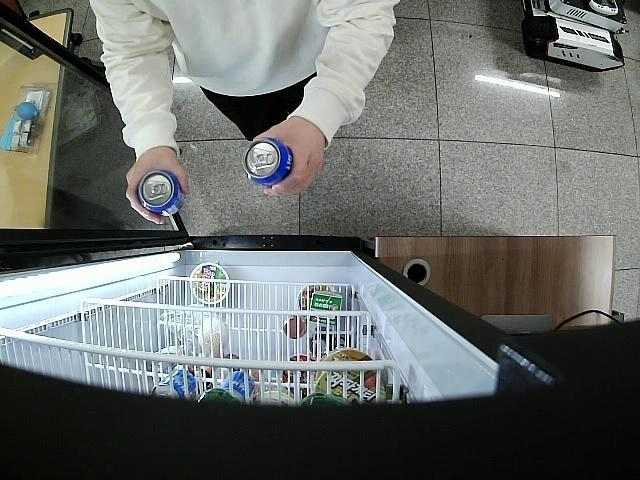13_pocariSweat: (240, 138, 292, 187), (136, 171, 185, 218)
